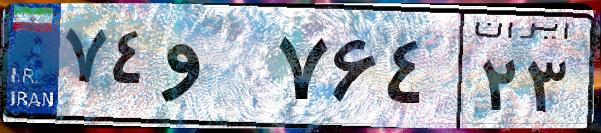2: (475, 38, 525, 113)
3: (525, 38, 570, 115)
4: (385, 28, 445, 110), (110, 28, 158, 98)
6: (330, 28, 385, 110)
7: (270, 28, 330, 110), (57, 26, 110, 100)
و: (158, 20, 270, 120)
